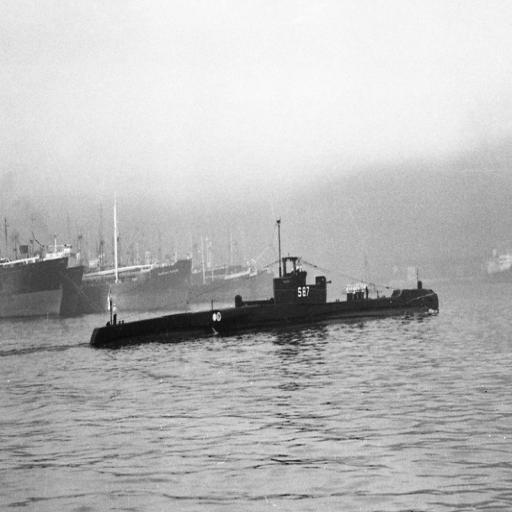submarine: (90, 217, 442, 351)
